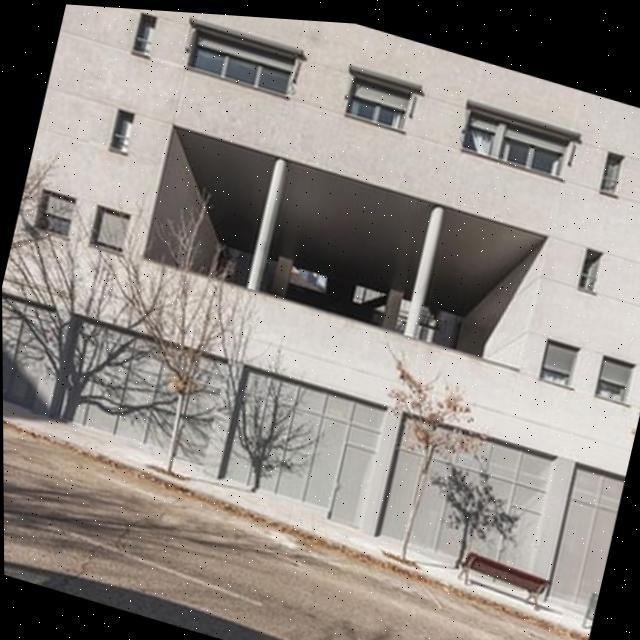building: (0, 0, 640, 601)
